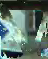Give way: (4, 4, 47, 53)
